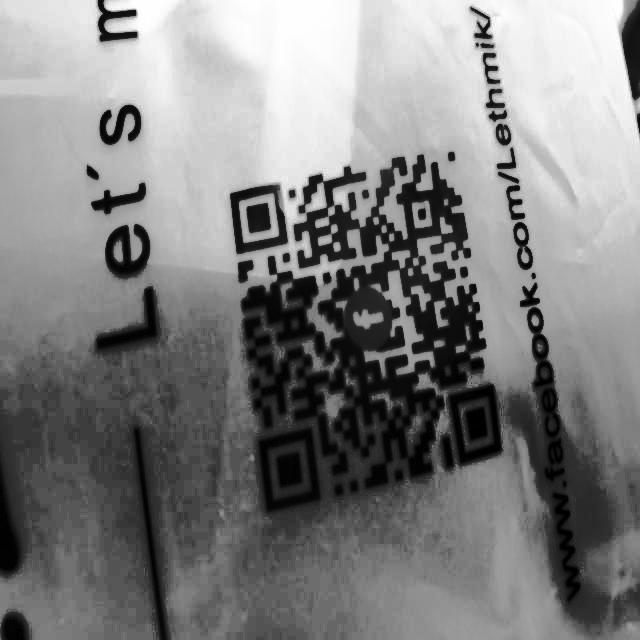qr_code: (217, 133, 514, 520)
